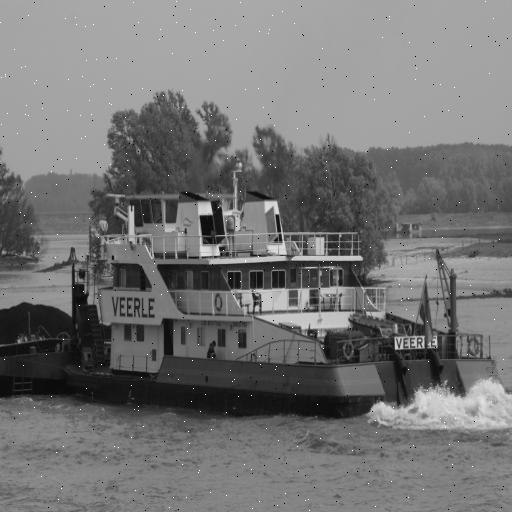tugboat: (63, 156, 512, 430)
